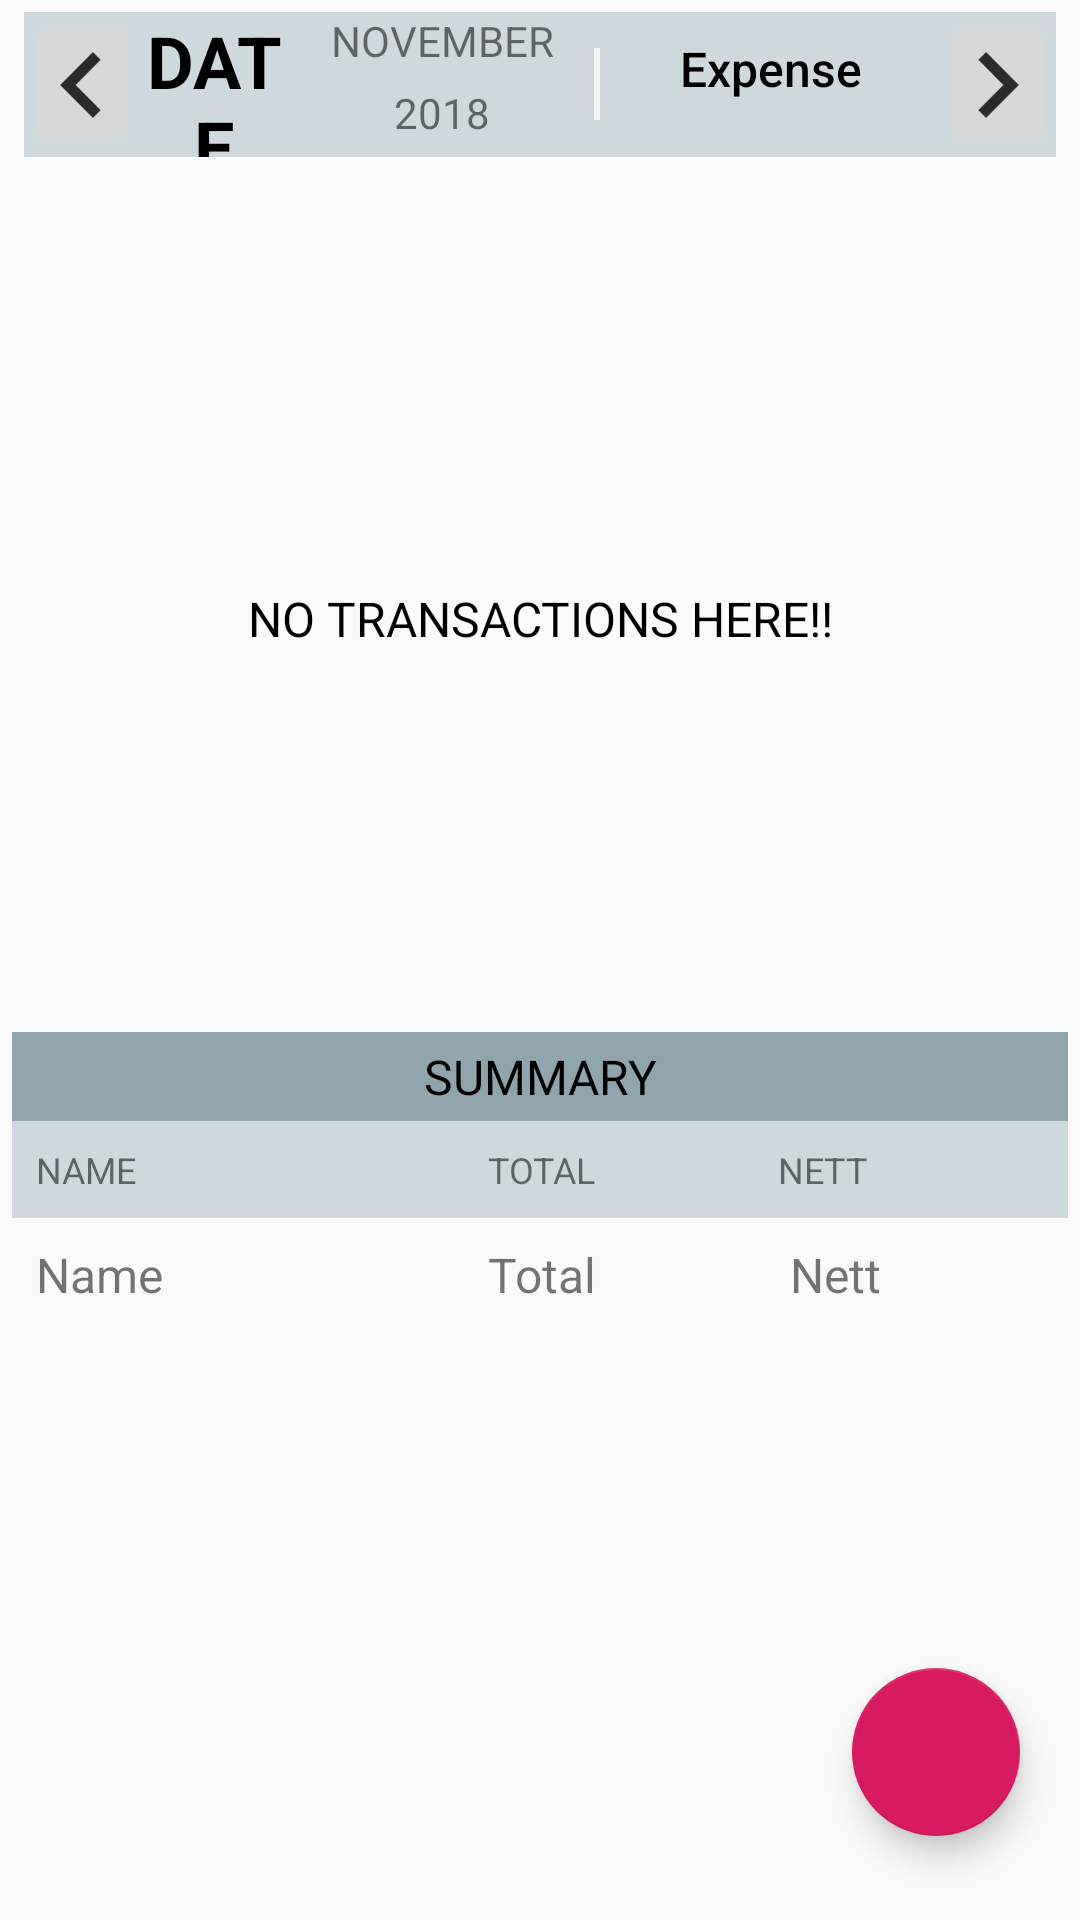

Where to tap for icons on this 1080 × 1920 app screen, as [x,y]:
decrement: [80,85]
increment: [998,85]
